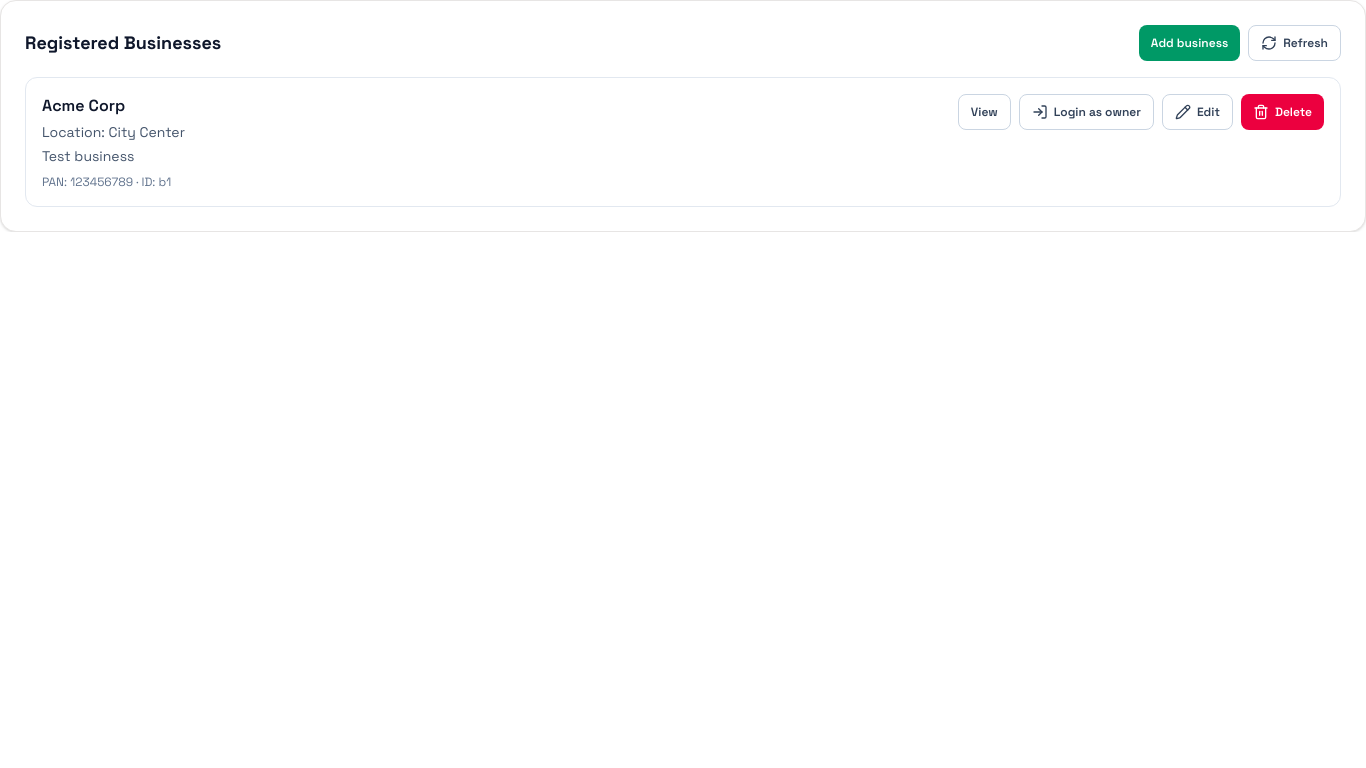
Test: BusinessesPage › Edit opens modal and Save updates business
Expected: the text "Acme Corp" is shown, 42,95 -> 125,116
Click the button "Edit". click: (1197, 112)
box: 1162,94 -> 1233,130
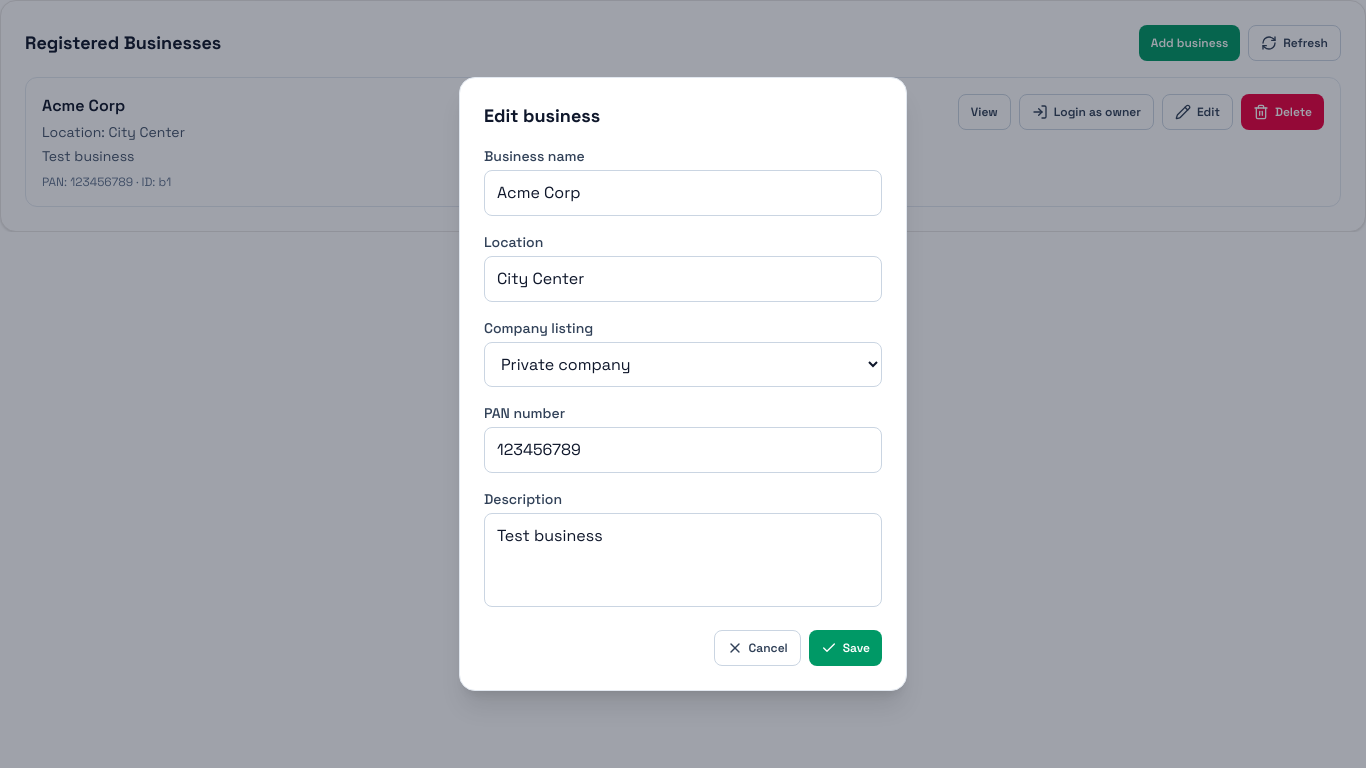
Result: the dialog is shown
Result: the heading "Edit business" is shown at 484,104 -> 600,127
Select "Public company" in the dropdown labelled "Company listing". click: (683, 364)
box: 484,342 -> 882,387
Replace the text in the field labelled "Business name" with "Acme Updated". click: (683, 193)
box: 484,170 -> 882,216
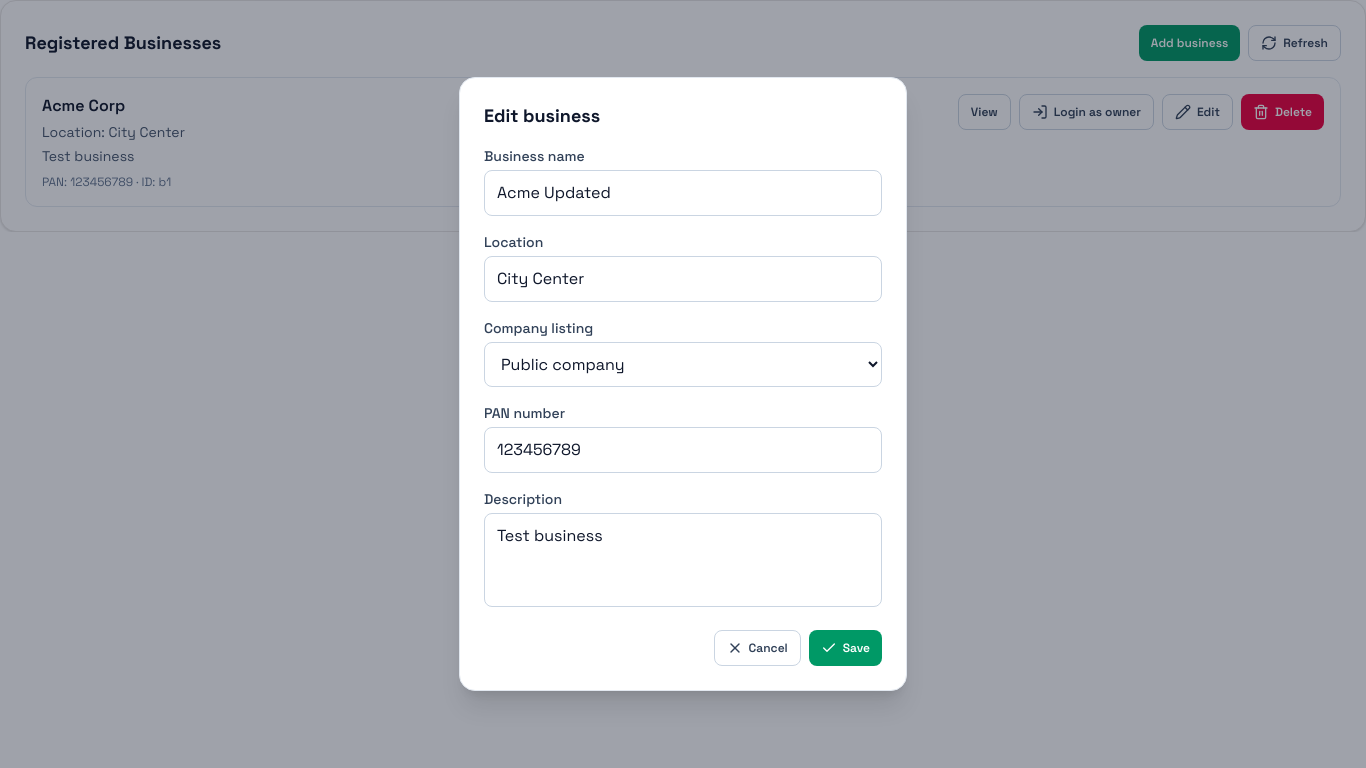
Replace the text in the field labelled "Location" with "New Location". click: (683, 279)
box: 484,256 -> 882,302
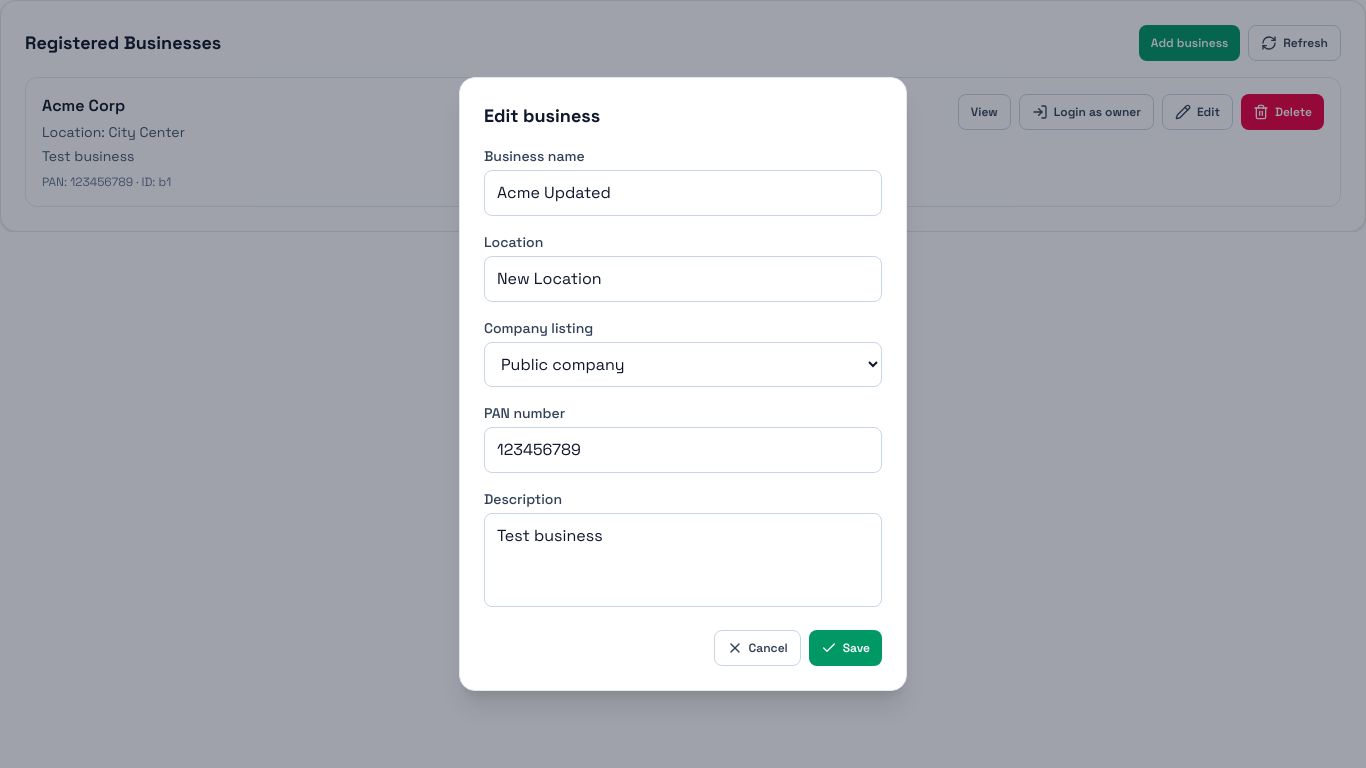
Replace the text in the number field labelled "PAN number" with "999". click: (683, 450)
box: 484,427 -> 882,473
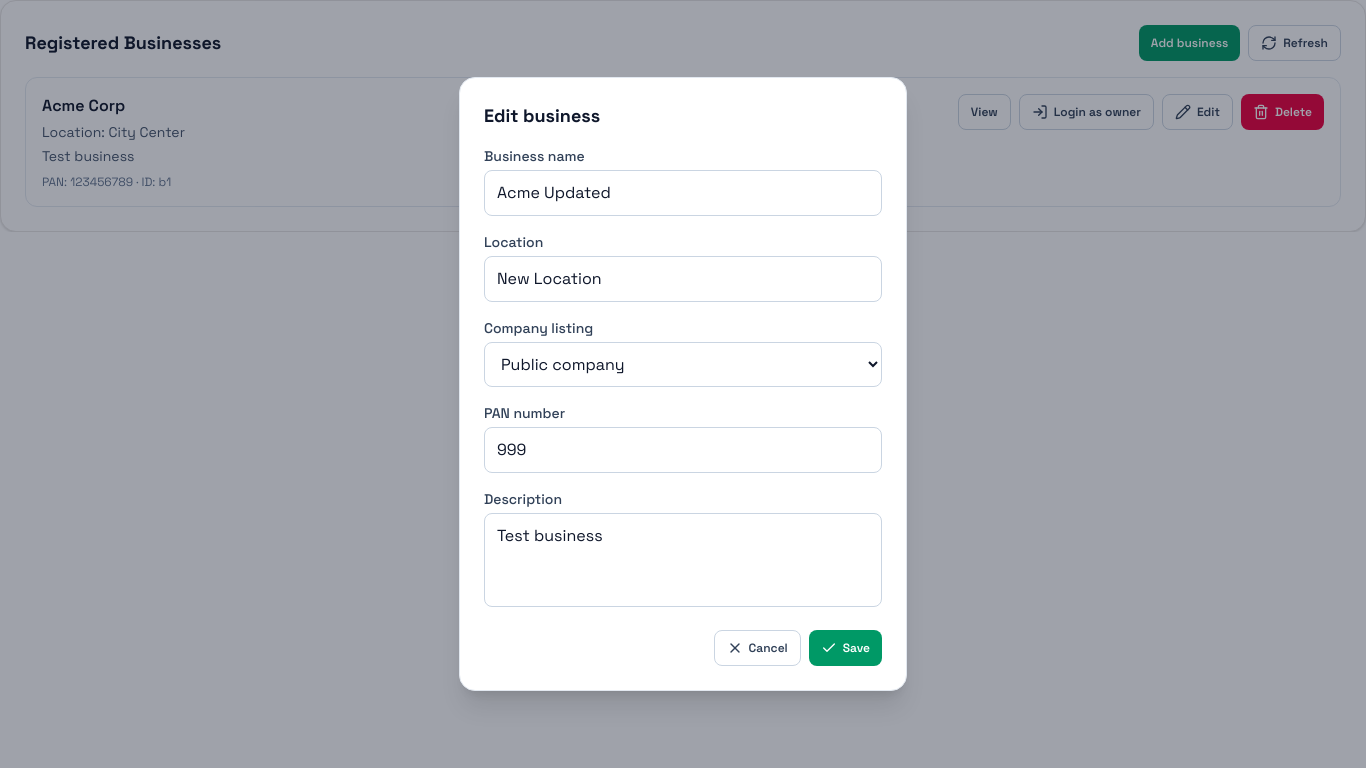
Replace the text in the text box labelled "Description" with "Updated desc". click: (683, 560)
box: 484,513 -> 882,607
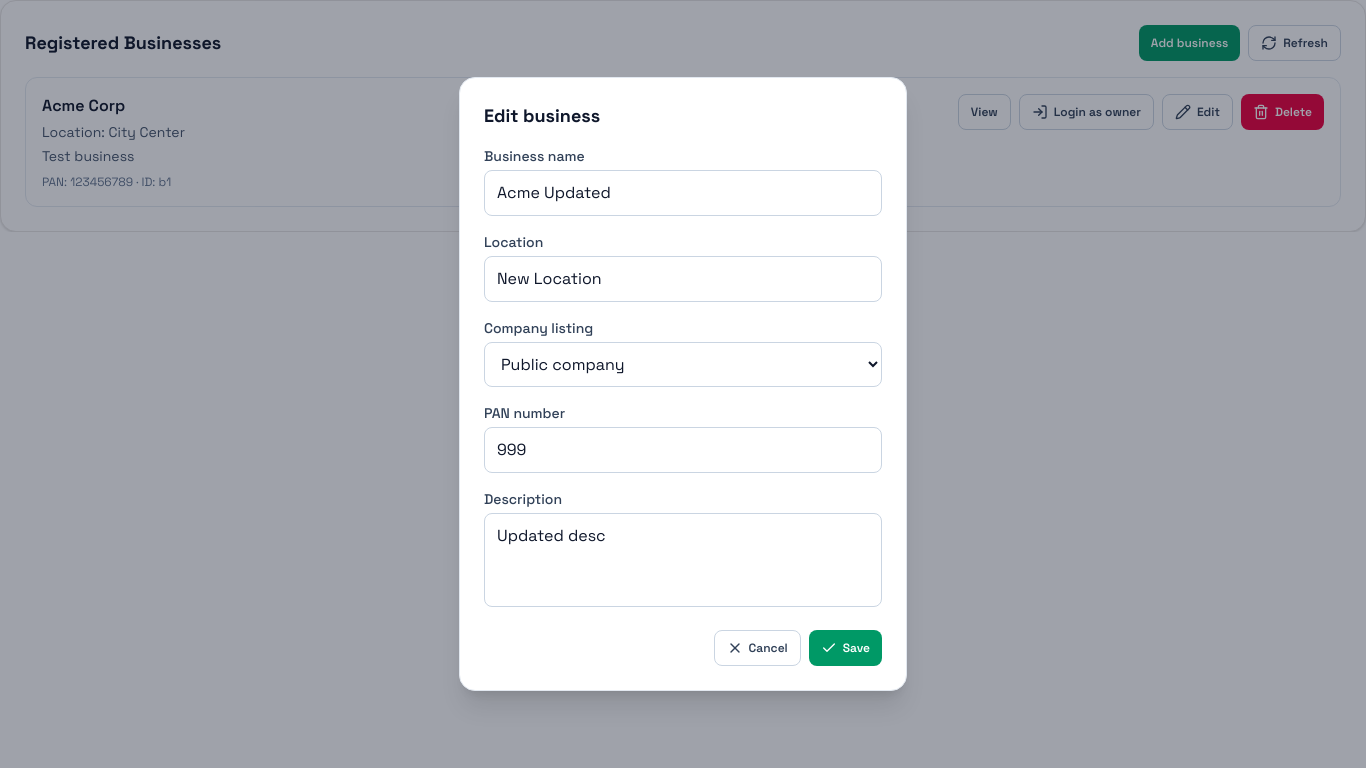
Click the button "Save". click: (845, 648)
box: 809,630 -> 882,666
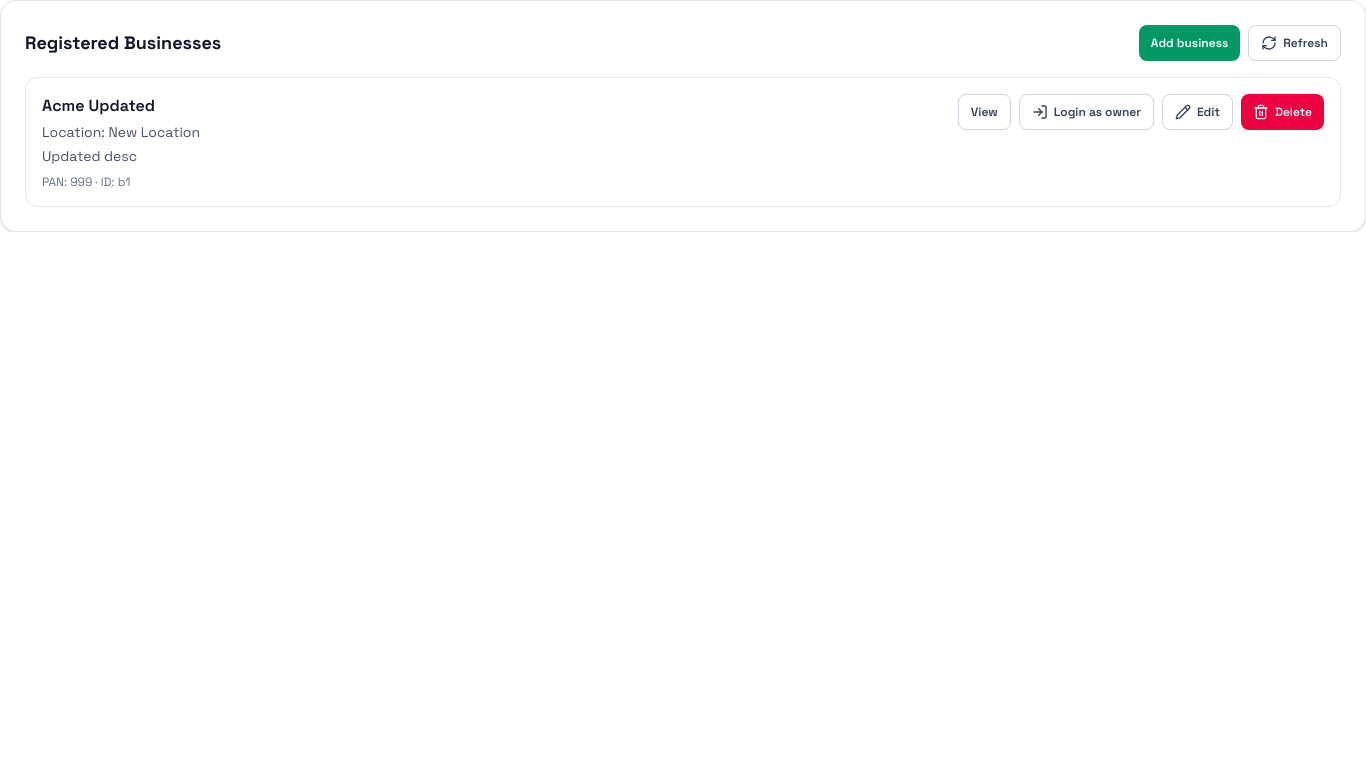
Result: the dialog is gone
Result: the text "Acme Updated" is shown at 42,95 -> 155,116
